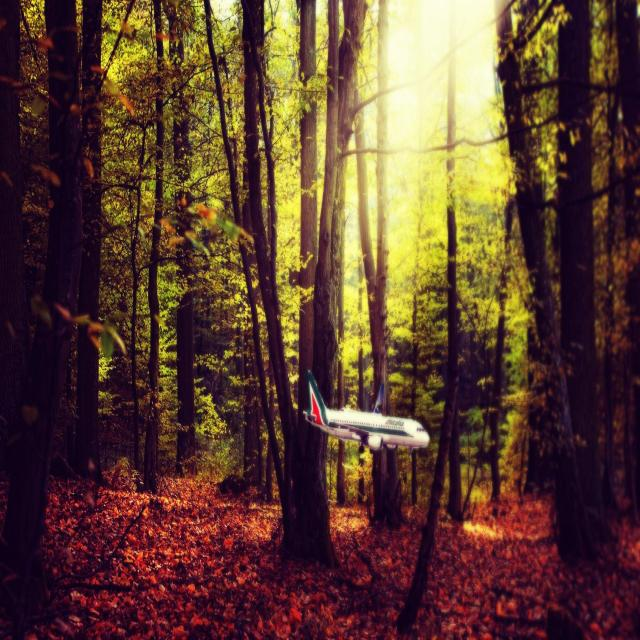airplane: (302, 368, 430, 454)
